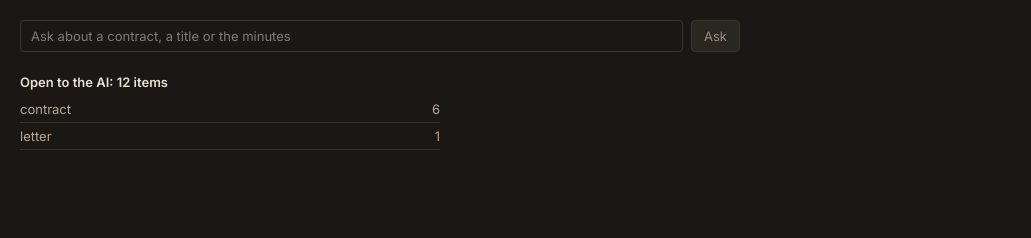
Scenario: AskPage › not_answered without would_answer omits the second line
In the field named "Question": point(352, 36) [20,20,683,52], type "Who gets subsidiary rights income?"
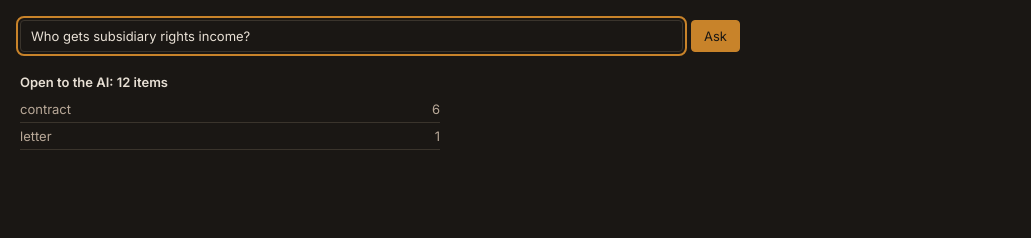
Click the button "Ask": point(716, 36) [691,20,740,52]
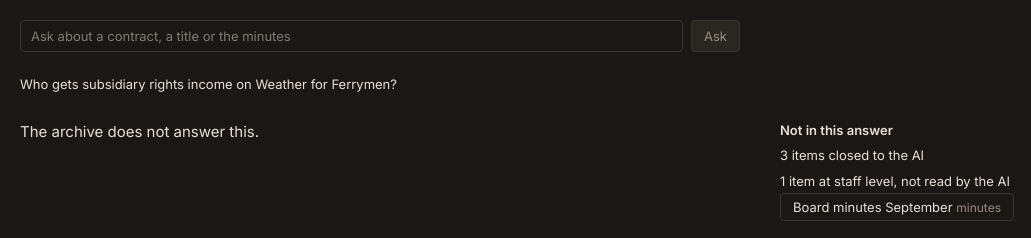
Now the text "The archive does not answer this." is shown, box [20,122,259,141]
